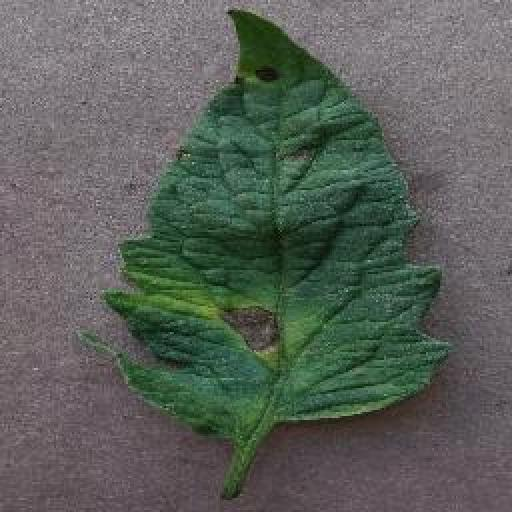disease_tomato: (88, 8, 454, 434)
